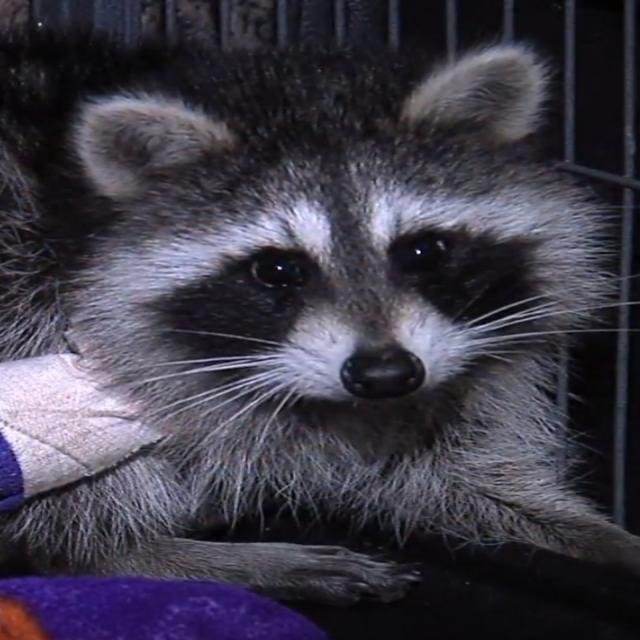Raccoon: (9, 33, 616, 587)
